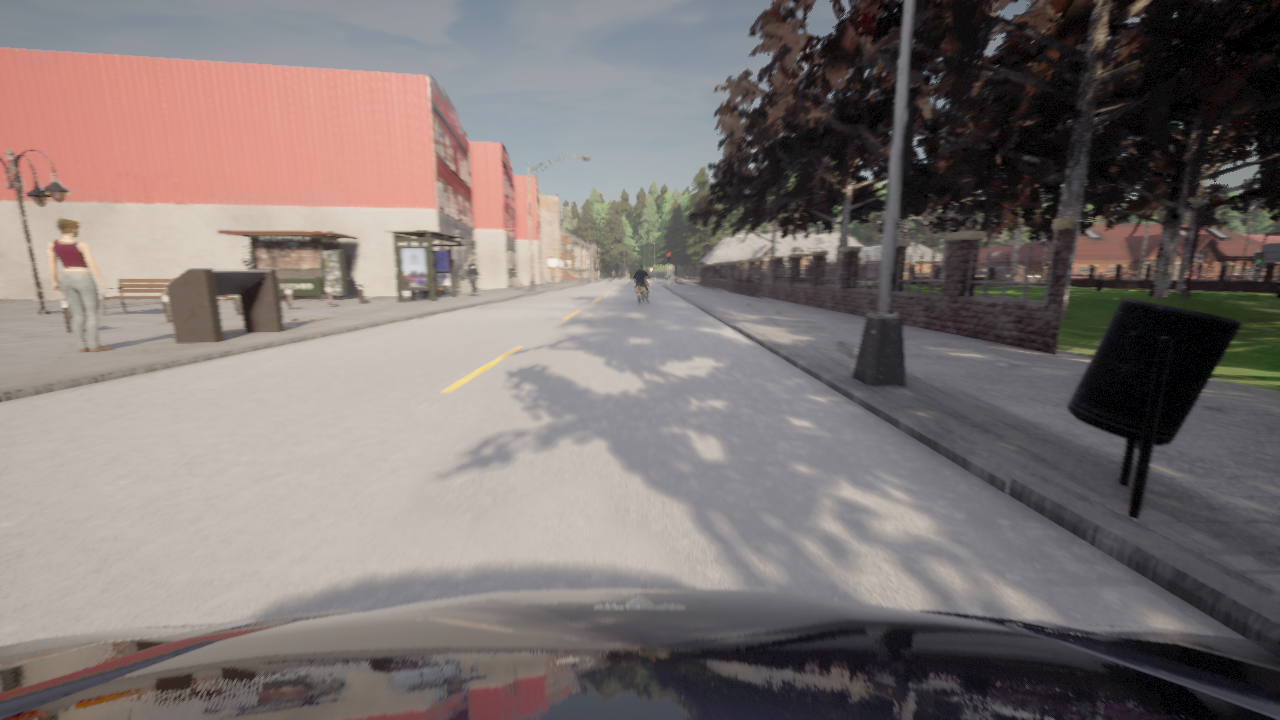cyclist: (0, 588, 1279, 719), (632, 272, 651, 302), (612, 274, 613, 281)
pedestrian: (48, 218, 111, 352), (467, 257, 479, 296)
